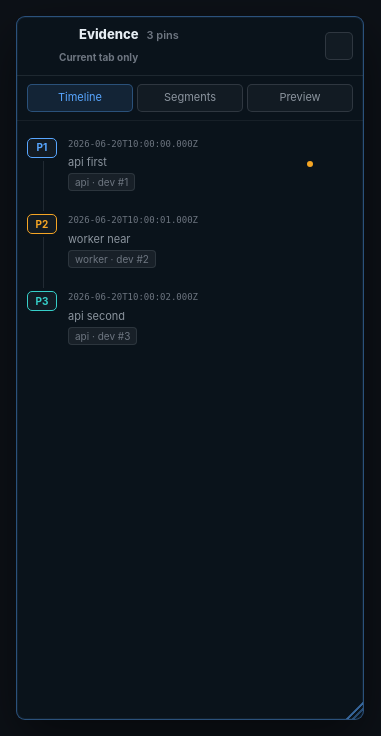
EvidenceDrawer › shows immediate feedback after copying Markdown evidence
Click the button with test id "tab-segments". click: (190, 98)
box: [137,84,243,112]
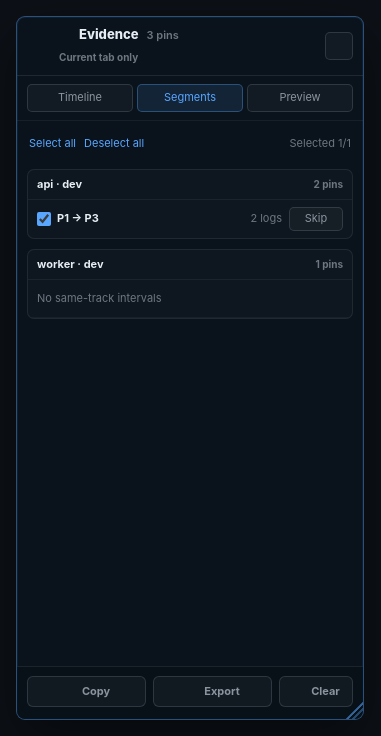
Click the button with test id "copy-evidence". click: (86, 692)
box: [27,676,146,707]
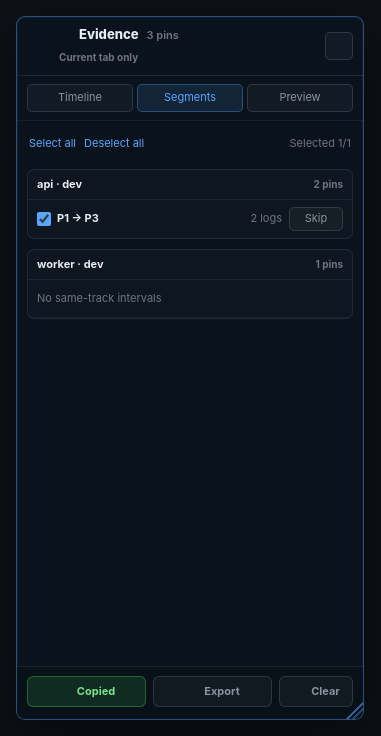
Check: the button with test id "copy-evidence" reads "Copied", box [27,676,146,707]
